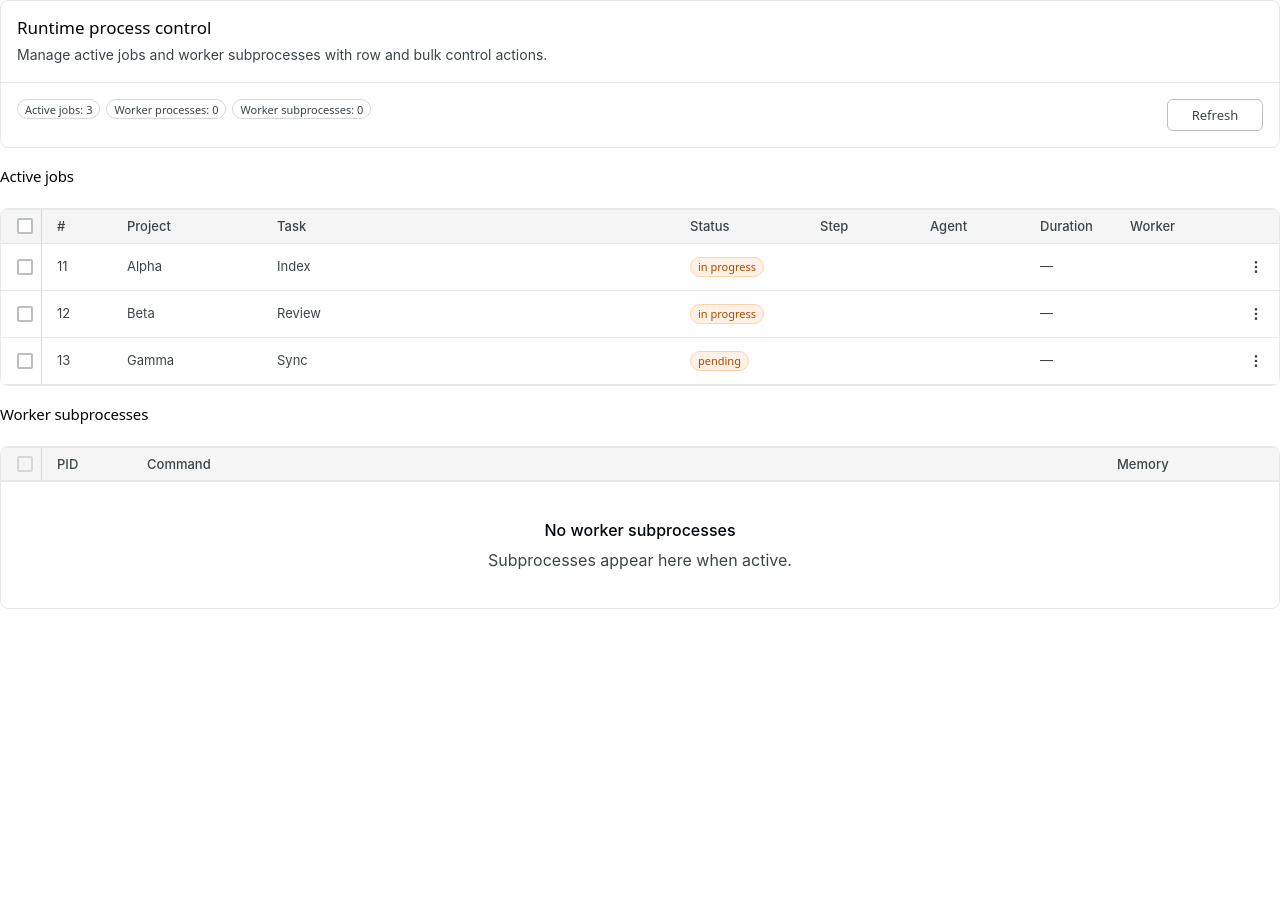
Test: ProcessesControlPanel › keeps the dialog open with the reason when the only job fails to cancel
What coordinates should you click on to do the following:
click the button named "Actions for job 11"
I would click on:
 (1256, 266)
Its box is [1240,250,1272,282].
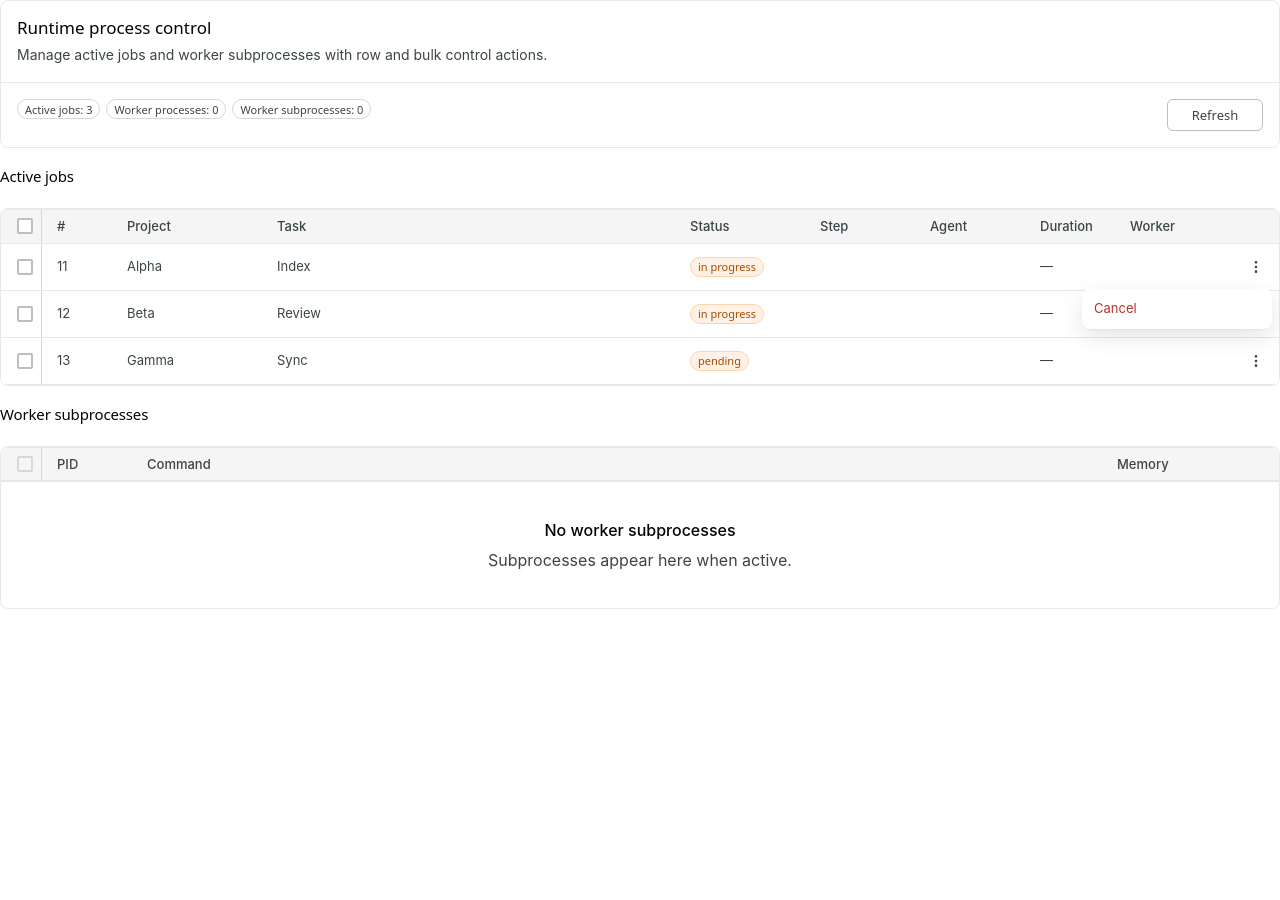
What coordinates should you click on to do the following:
click the menu item "Cancel"
I would click on:
 (1177, 309)
Its box is [1086,293,1268,325].
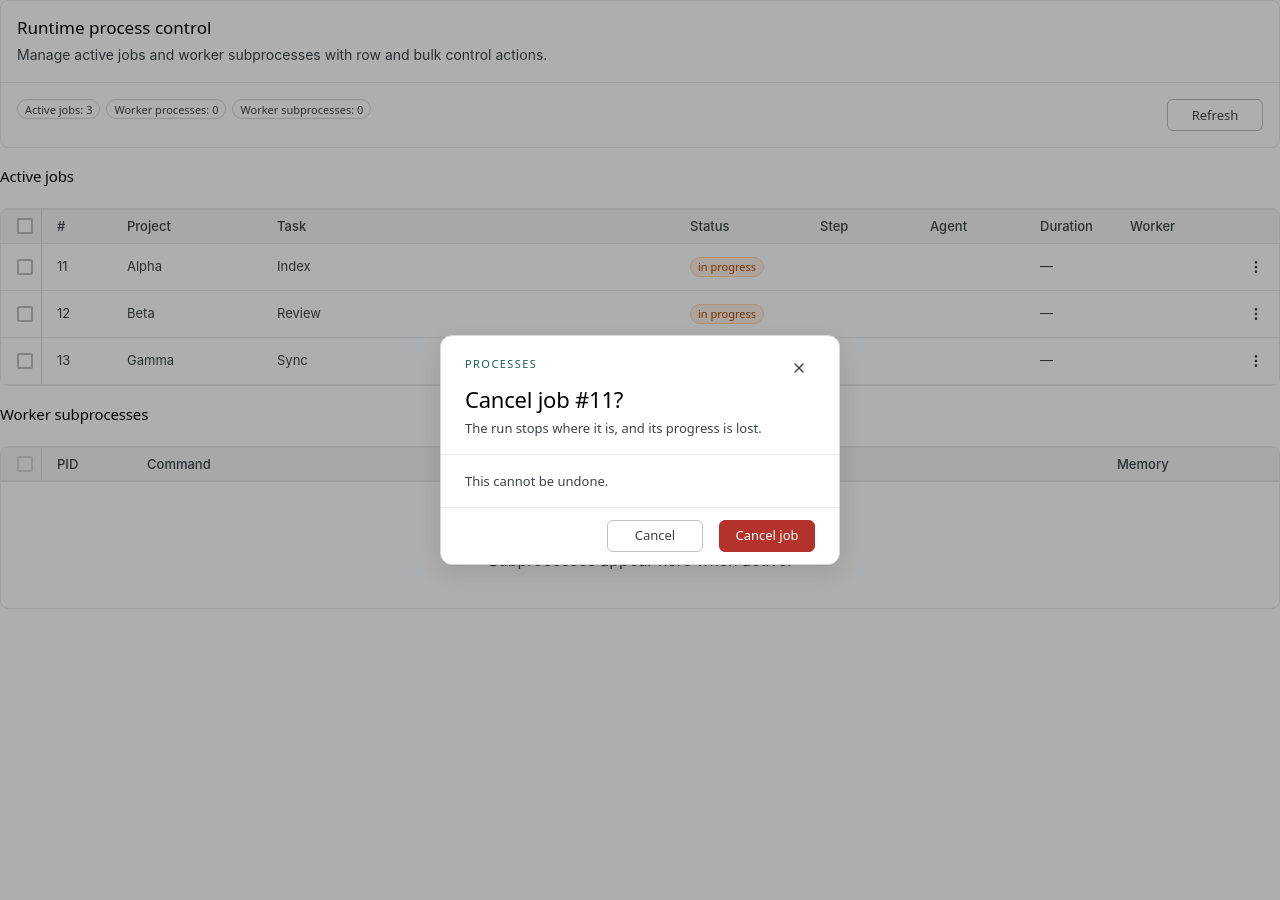
What coordinates should you click on to do the following:
click the button "Cancel job"
I would click on:
 (767, 536)
Its box is [719,520,815,552].
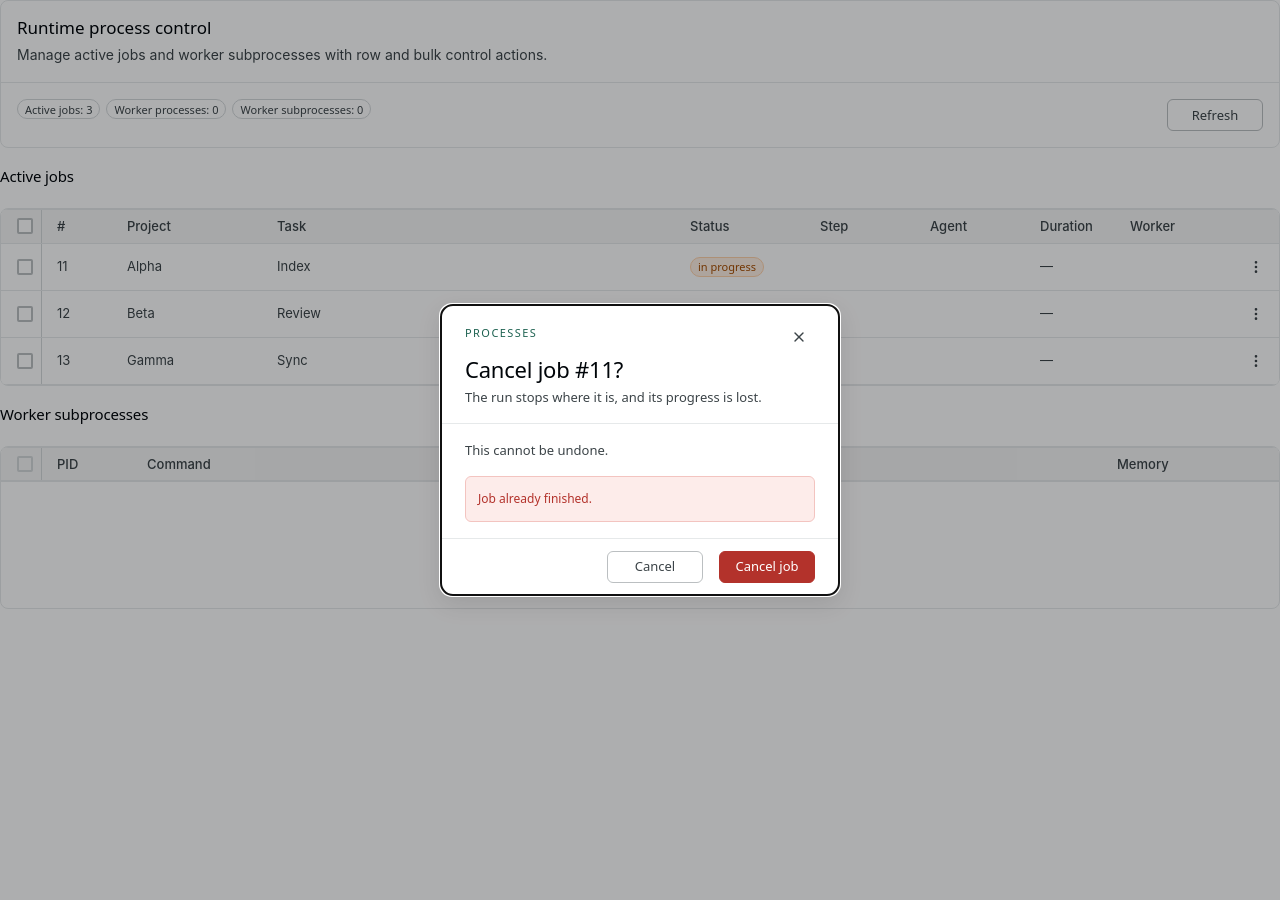
Now the button "Cancel job" is enabled, box [719,550,815,582]
Now the message reads "Job already finished.", box [478,490,592,507]
